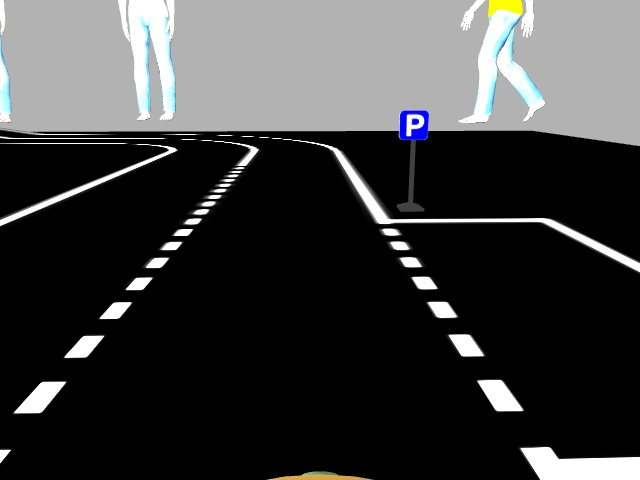Parking: (396, 109, 430, 141)
